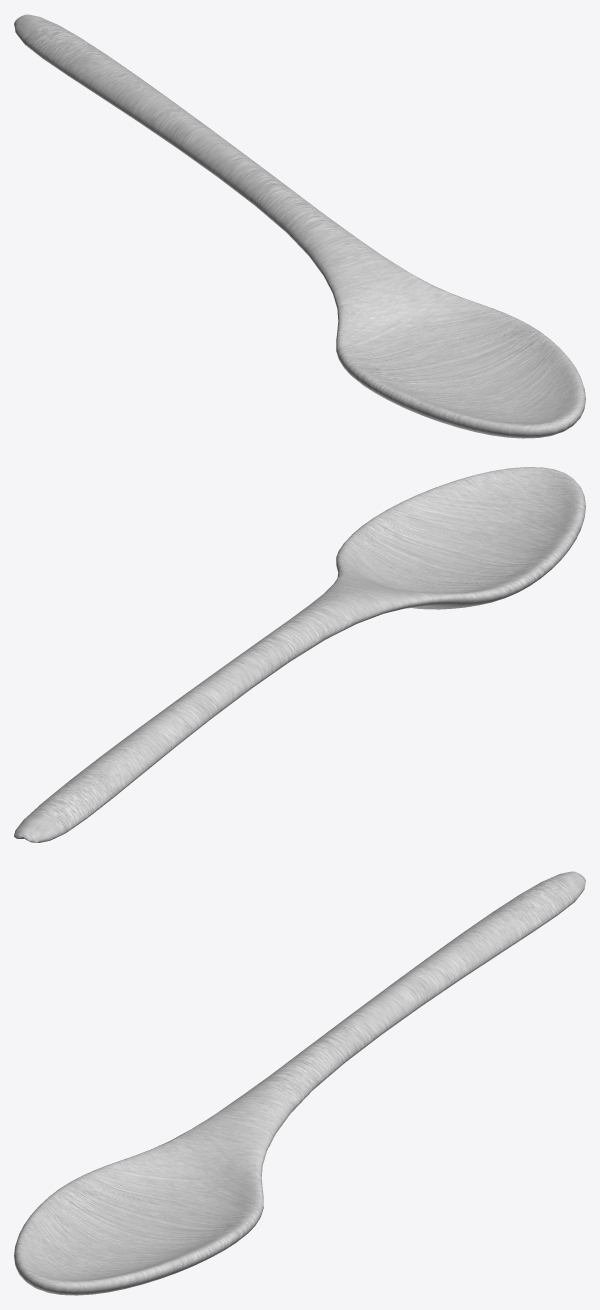
Rendered from textured spoon.fbx.
3 renders of one model, top to bottom at view 1: azimuth 30°, elevation 25°; view 2: azimuth 150°, elevation 25°; view 3: azimuth 330°, elevation 25°, orthographic.
Visible parts, largest first — view 1: Spoon; view 2: Spoon; view 3: Spoon.
Boxes of the visible parts, x1,y1,x2,y2 form: Spoon: (14,14,585,438); Spoon: (14,467,585,842); Spoon: (14,871,585,1295).
Size of the model in its own units: 1.72 by 0.6254 by 8.66.
1 material, 1 textured.
